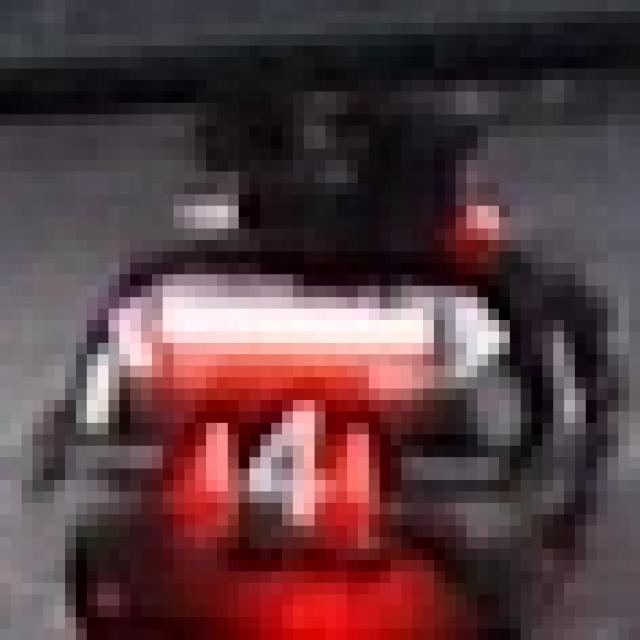R4: (195, 389, 380, 537)
